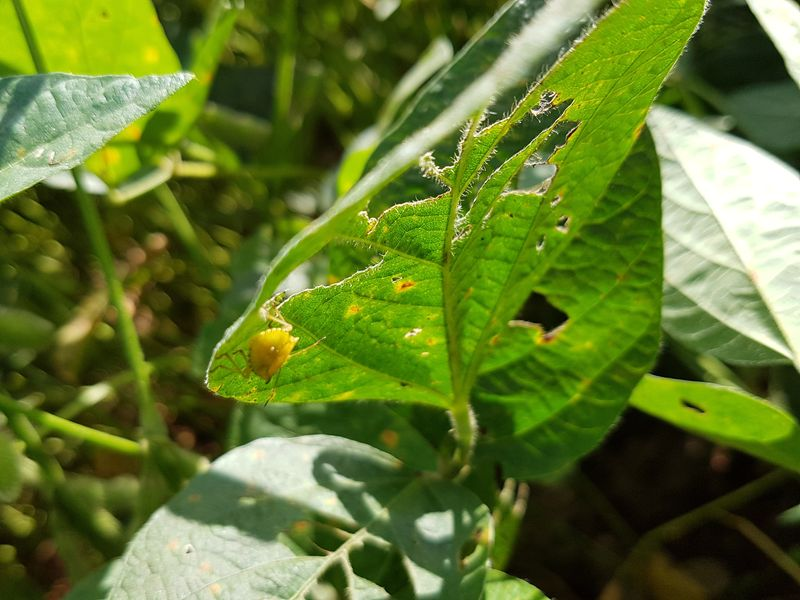Euschistus_heros_ninfa: (201, 297, 329, 404)
